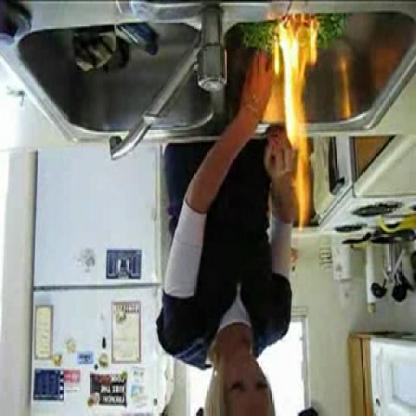Fire: (279, 24, 311, 218)
